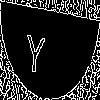Y: (25, 25, 46, 74)
